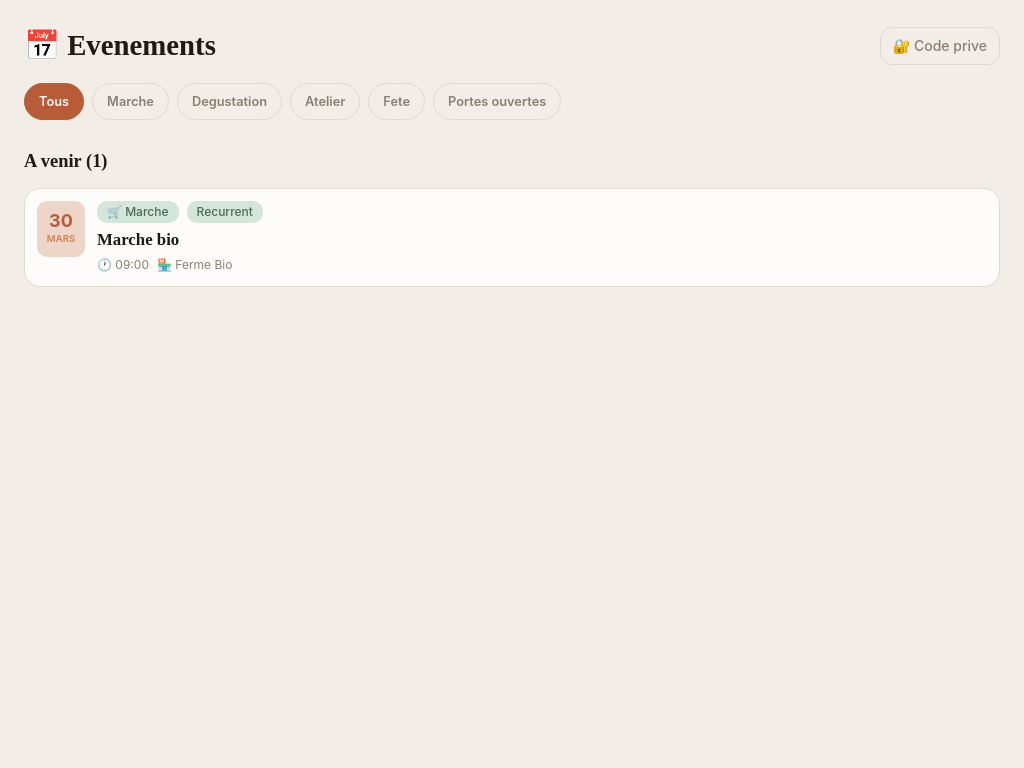
Test case: EventsPageClient › opens private code sheet
Click the button "🔐 Code prive" at x=940, y=46, box x1=880 y1=27 x2=1000 y2=65
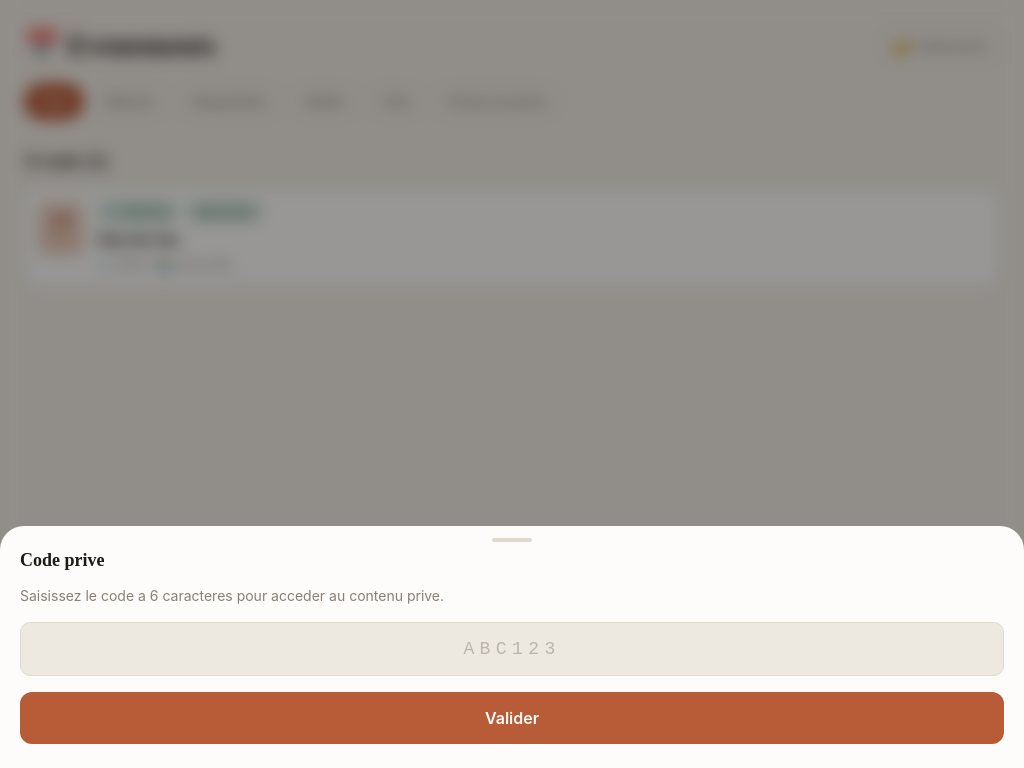
Expected: the text "6 caracteres" is shown, x1=20 y1=587 x2=444 y2=604
